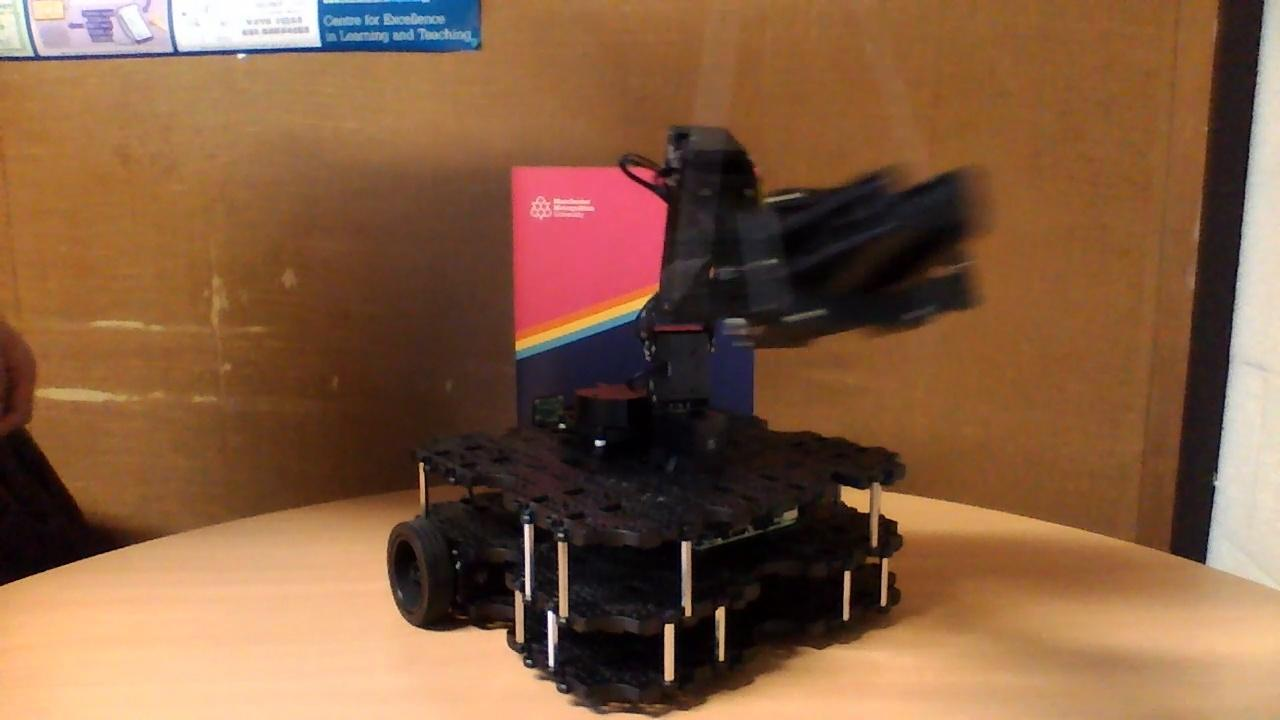Arm: (651, 123, 744, 325)
Hand: (718, 160, 997, 350)
base: (386, 378, 908, 701)
